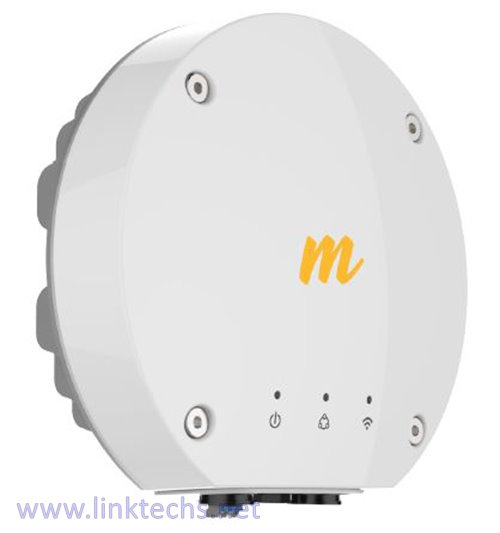ba: (12, 12, 474, 508)
